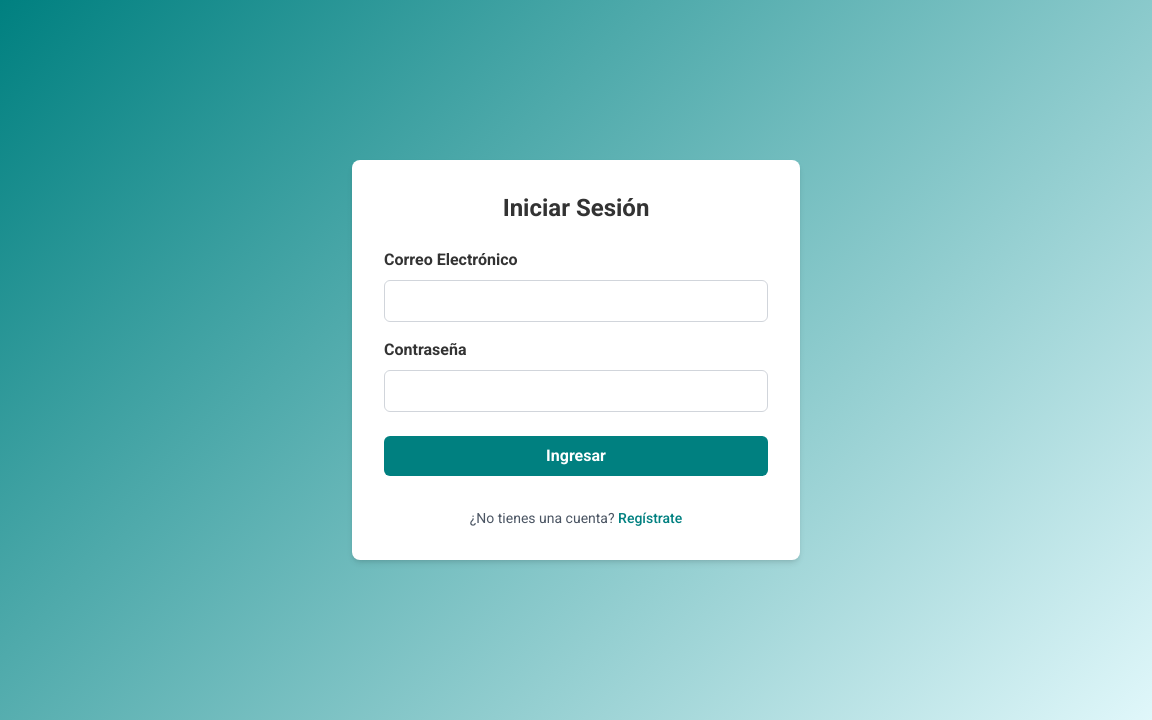
Scenario: Pruebas en LoginPage › debe mostrar un mensaje de error si las credenciales son incorrectas
The width and height of the screenshot is (1152, 720).
// Se simulan las interacciones del usuario
Type "test@example.com" into the field labelled "Correo Electrónico". click: (576, 301)
box: [384, 280, 768, 322]
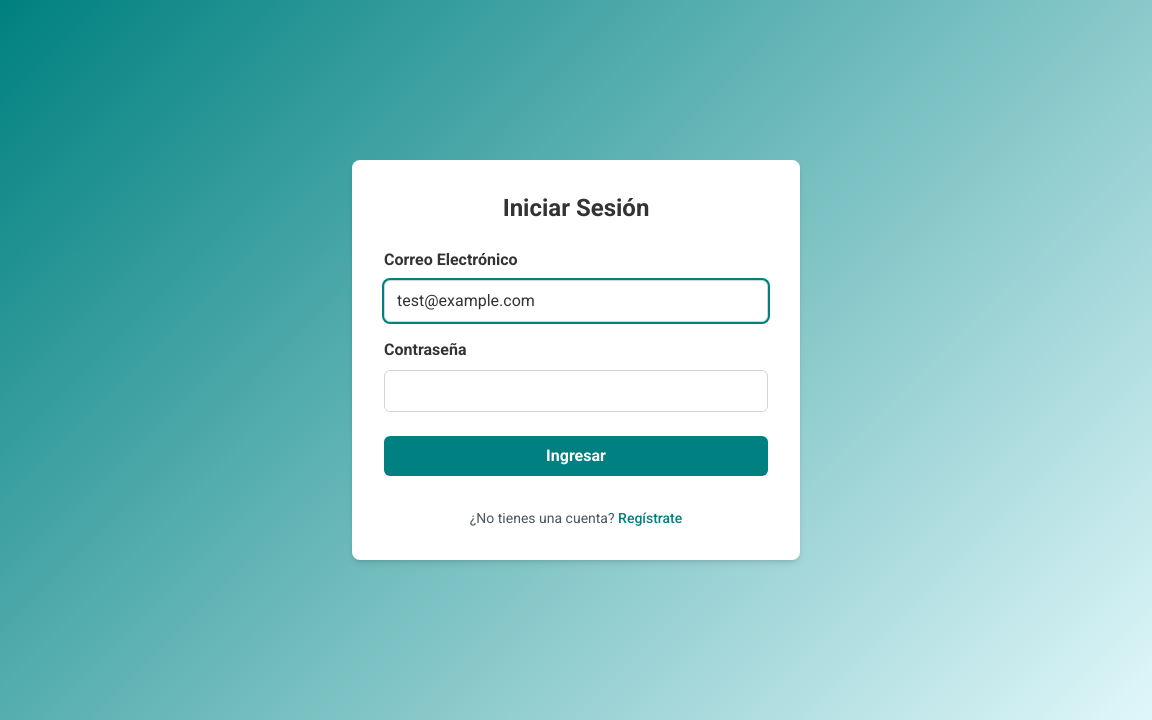
Type "password123" into the password field labelled "Contraseña". click: (576, 391)
box: [384, 370, 768, 412]
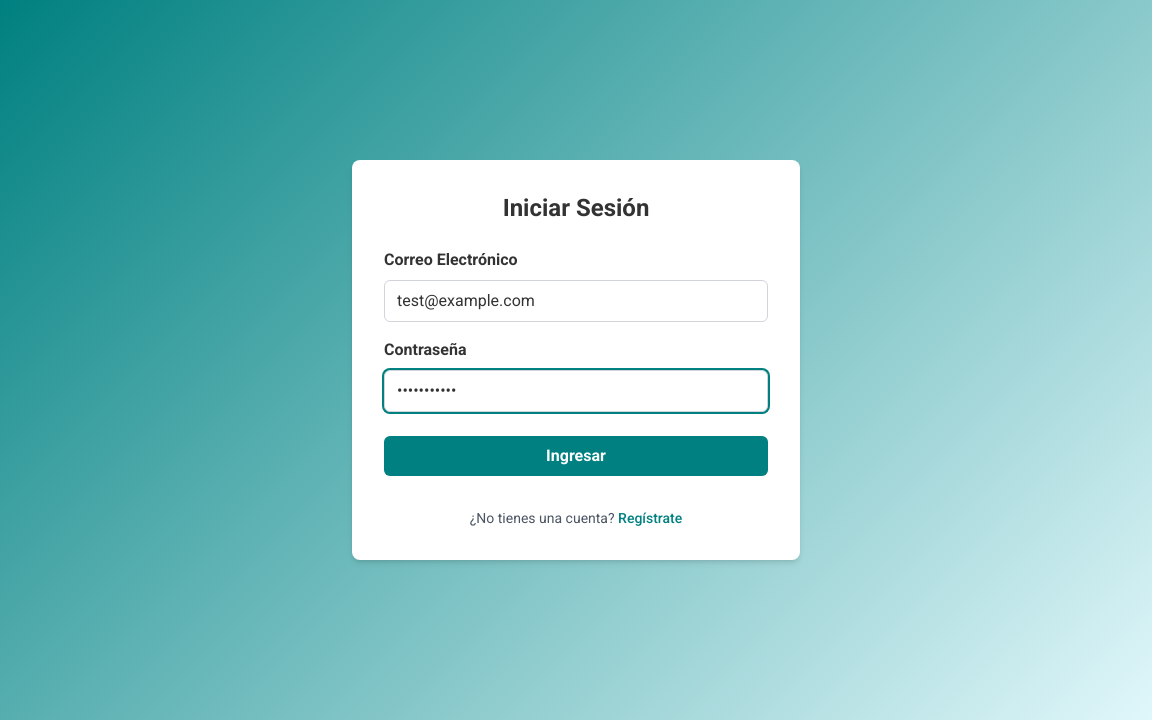
Click the button "Ingresar". click: (576, 456)
box: [384, 436, 768, 476]
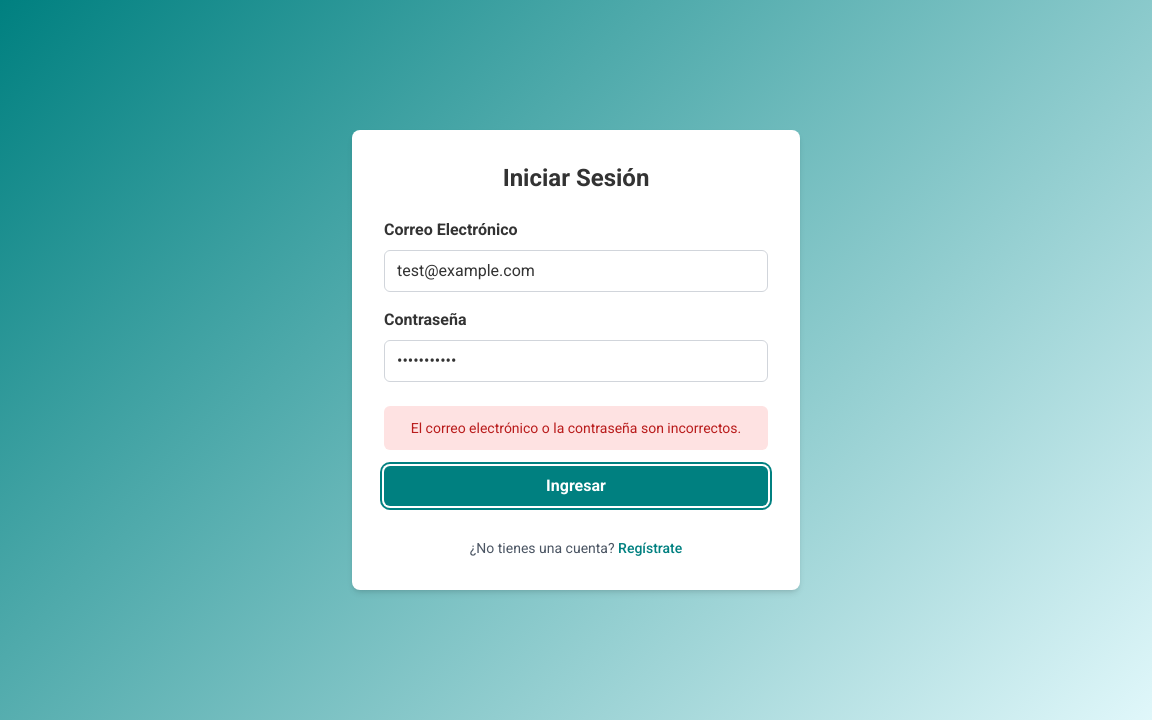
Check: the button "Ingresar" is enabled, box [384, 466, 768, 506]
Check: the text "El correo electrónico o la contraseña son incorrectos." is shown, box [384, 406, 768, 450]
